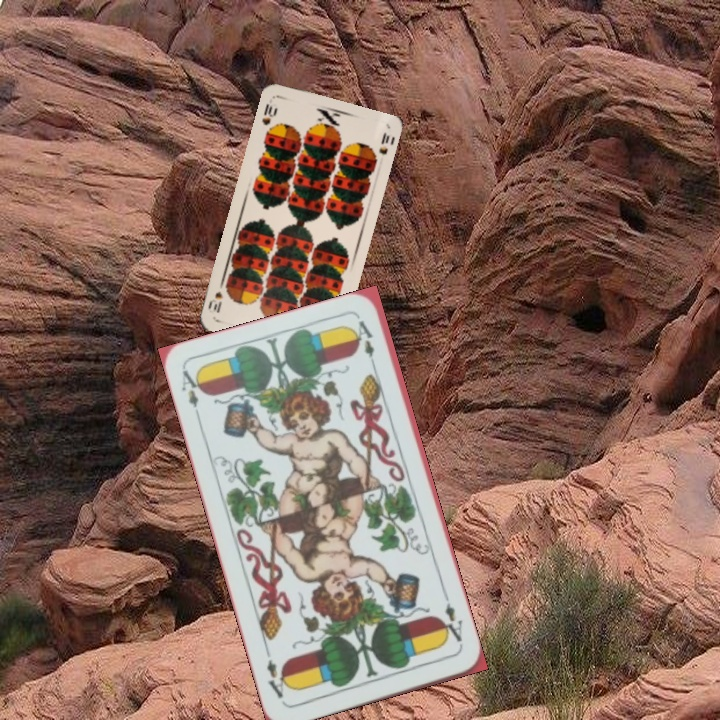EA: (436, 592, 466, 650), (177, 366, 206, 423)
S10: (258, 99, 279, 128)
